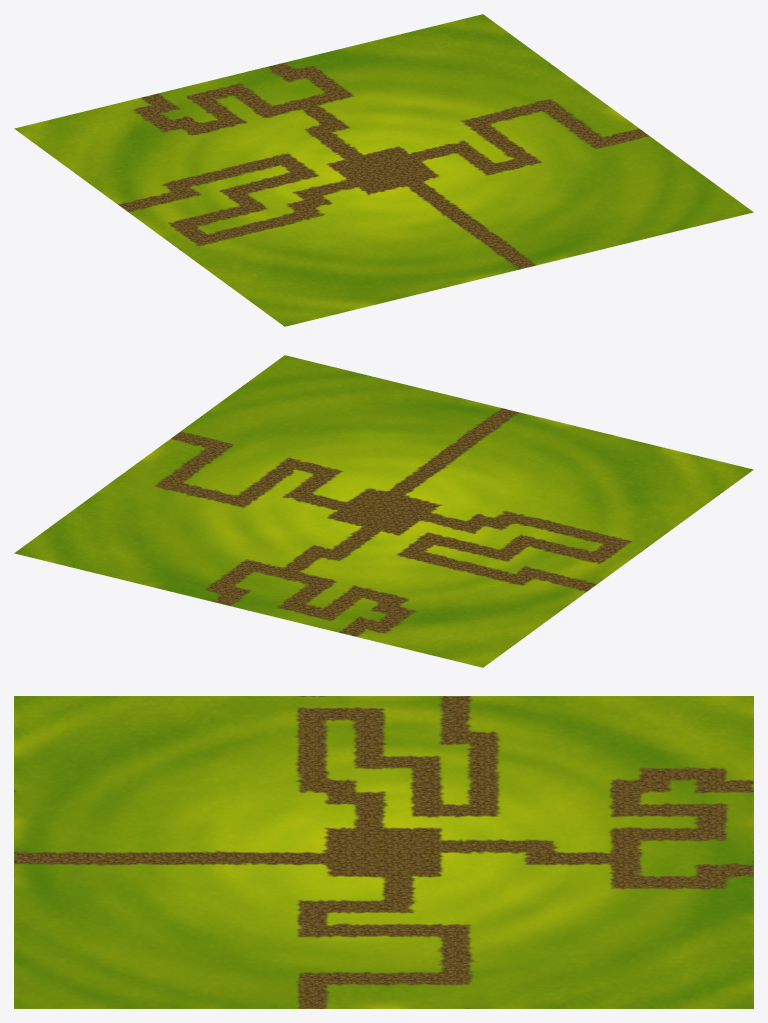
The model's file is MDL_ Field.fbx.
3 views of the same model, one above another, from view 1: azimuth 30°, elevation 25°; view 2: azimuth 150°, elevation 25°; view 3: azimuth 270°, elevation 25° (orthographic). The views are drawn at different scales.
Visible parts, largest first — view 1: G_Field; view 2: G_Field; view 3: G_Field.
Part boxes in pixels (x1,y1,x2,y2): G_Field: [14, 14, 753, 326]; G_Field: [14, 355, 753, 667]; G_Field: [14, 696, 753, 1008].
Bounding box in the file's own units: 5200 × 0.00147 × 5200.
